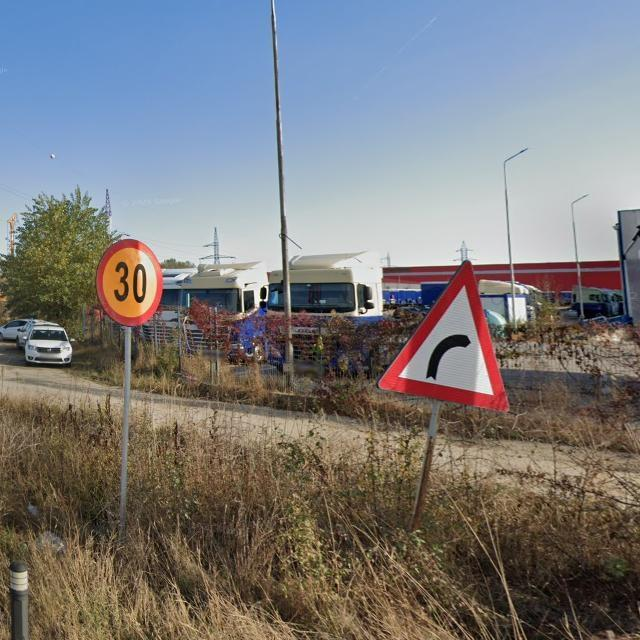forb_speed_over_30: (96, 238, 166, 328)
